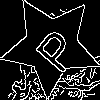P: (26, 21, 82, 76)
